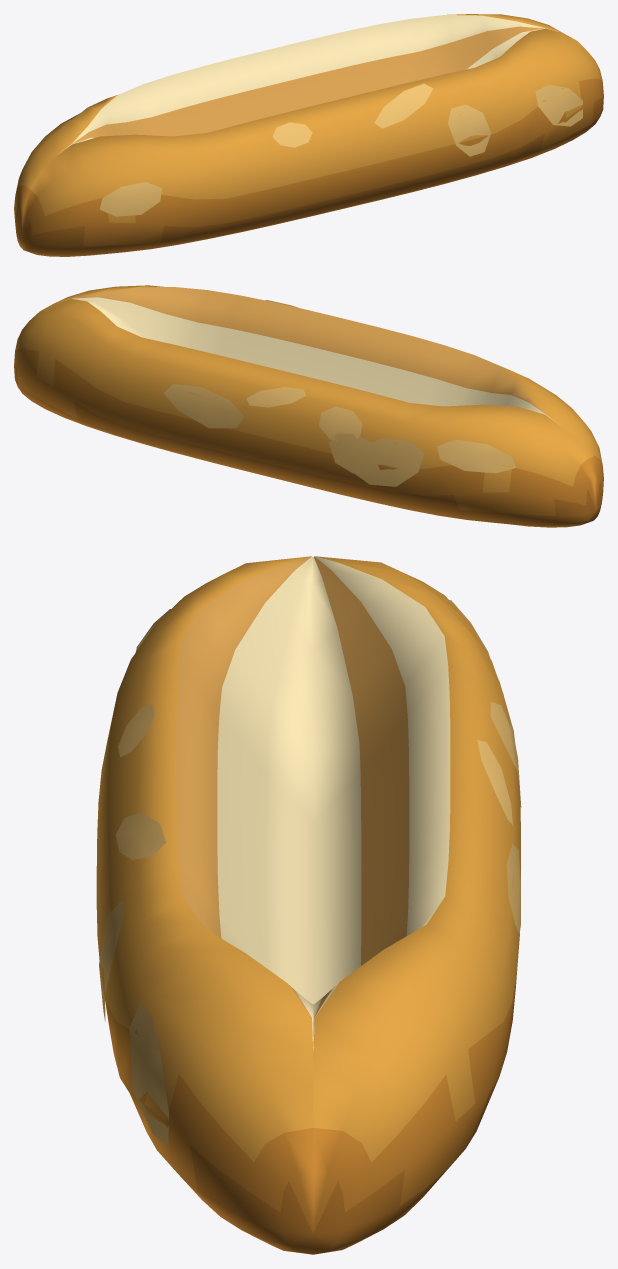
The model's file is hotdog_bun.glb.
The picture shows the model from 3 angles, top to bottom: view 1: azimuth 30°, elevation 25°; view 2: azimuth 150°, elevation 25°; view 3: azimuth 270°, elevation 25°; orthographic projection. The views are drawn at different scales.
Parts seen in each view (by area): view 1: HotdogBun; view 2: HotdogBun; view 3: HotdogBun.
Part boxes in pixels (left/top/right/bottom): HotdogBun: left=14, top=14, right=603, bottom=256; HotdogBun: left=14, top=285, right=603, bottom=527; HotdogBun: left=96, top=556, right=521, bottom=1254.
Bounding box in the file's own units: 5 × 1 × 1.6.
